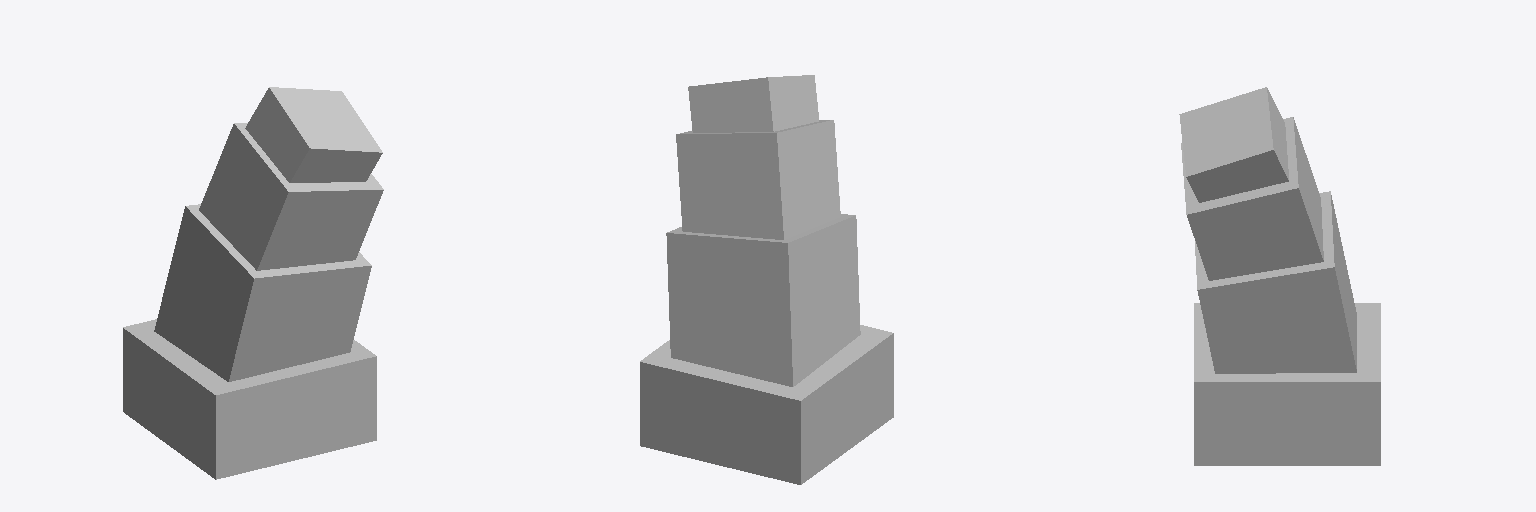
File: pillar_se.obj
3 renders of one model, left to right at view 1: azimuth 30°, elevation 25°; view 2: azimuth 150°, elevation 25°; view 3: azimuth 270°, elevation 25°, orthographic.
Visible parts, largest first — view 1: base, second, third, top; view 2: second, base, third, top; view 3: base, second, third, top.
Boxes of the visible parts, box(x1,y1,x2,y2) form: base: box(123, 319, 376, 479); second: box(154, 204, 371, 381); third: box(199, 123, 383, 270); top: box(245, 87, 382, 182); second: box(666, 214, 860, 386); base: box(640, 325, 893, 484); third: box(676, 120, 840, 239); top: box(688, 75, 818, 132); base: box(1194, 303, 1380, 465); second: box(1195, 191, 1356, 373); third: box(1181, 117, 1323, 280); top: box(1179, 87, 1288, 202).
Bounding box in the file's own units: 1.03 × 2.04 × 1.08.